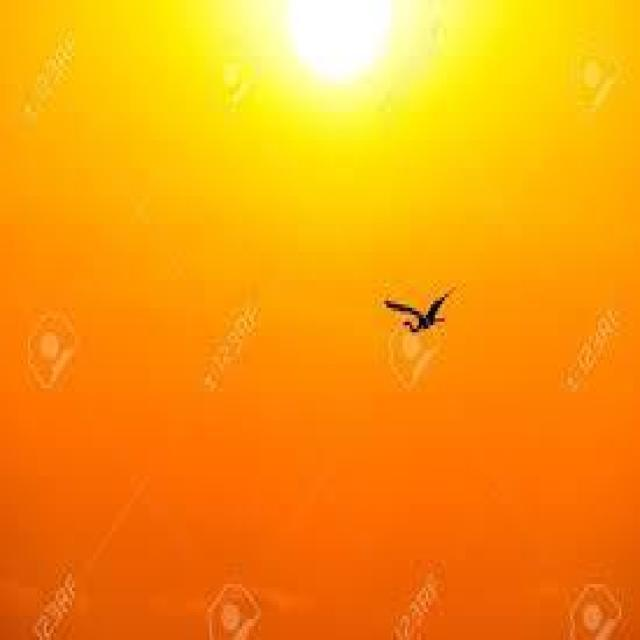bird: (380, 286, 453, 338)
